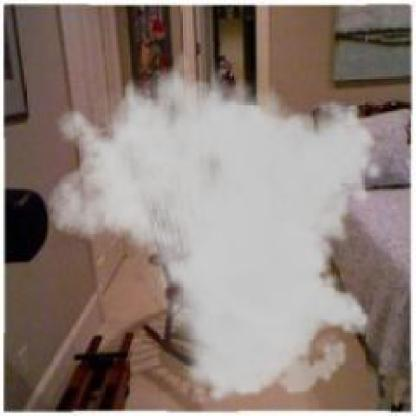Smoke: (47, 37, 385, 405)
